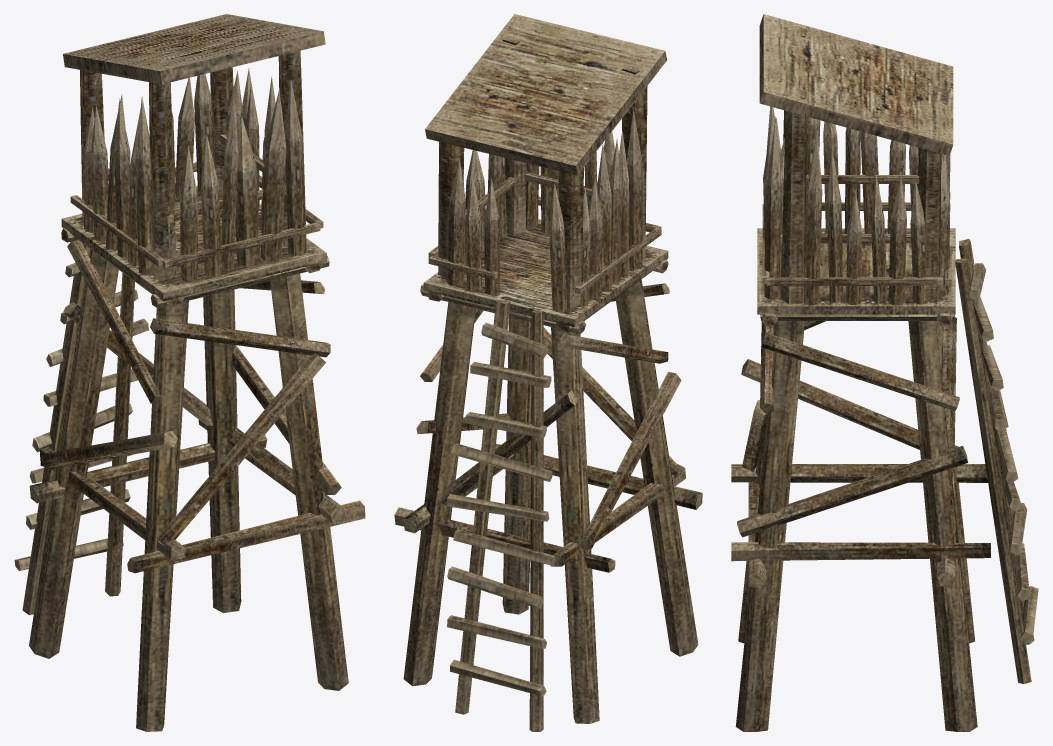
Rendered from desert_woodfence01.fbx.
3 renders of one model, left to right at view 1: azimuth 30°, elevation 25°; view 2: azimuth 150°, elevation 25°; view 3: azimuth 270°, elevation 25°, orthographic. The views are drawn at different scales.
Visible parts, largest first — view 1: desert_wood01; view 2: desert_wood01; view 3: desert_wood01.
Boxes of the visible parts, <box> form: desert_wood01: <box>14,14,365,731</box>; desert_wood01: <box>394,14,702,731</box>; desert_wood01: <box>731,14,1038,731</box>.
Size of the model in its own units: 3.77 by 10.1 by 4.43.
